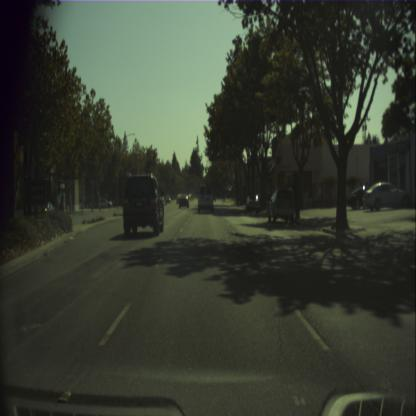GreenStraight: (216, 166, 217, 174)
Red: (186, 180, 189, 187), (172, 187, 174, 196)
off: (204, 166, 206, 172)
